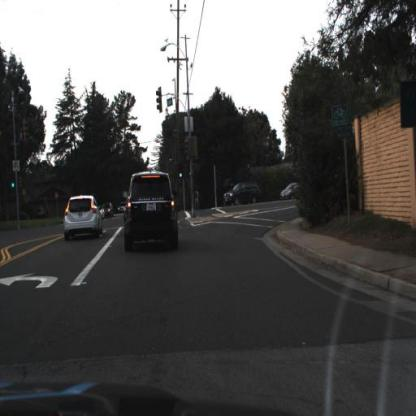car: (125, 171, 180, 251), (64, 195, 103, 242), (225, 181, 261, 207), (279, 184, 303, 199)
trafficLight-Green: (177, 162, 185, 184), (10, 171, 17, 193)
